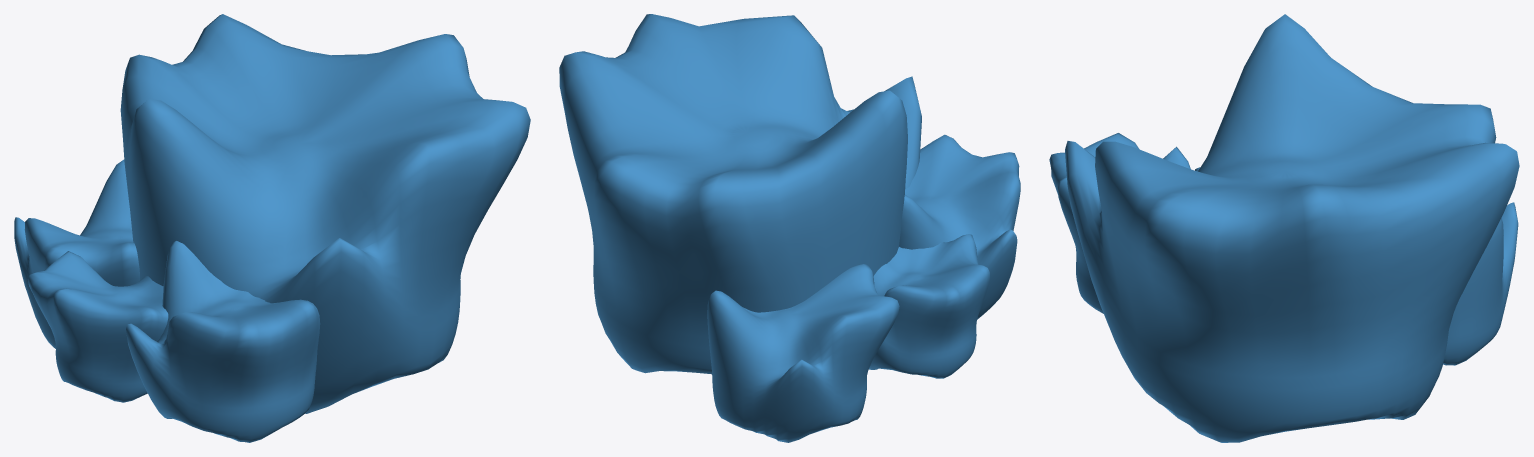
The model's file is AGRock4.fbx.
The picture shows the model from 3 angles, left to right: view 1: azimuth 30°, elevation 25°; view 2: azimuth 150°, elevation 25°; view 3: azimuth 270°, elevation 25°; orthographic projection. The views are drawn at different scales.
Parts seen in each view (by area): view 1: pSphere4, pSphere5, pSphere7, pSphere6; view 2: pSphere4, pSphere6, pSphere5, pSphere7; view 3: pSphere4, pSphere6, pSphere5.
Part boxes in pixels (x1,y1,x2,y2): pSphere4: (120, 14, 530, 413); pSphere5: (126, 241, 320, 442); pSphere7: (27, 251, 168, 402); pSphere6: (14, 159, 139, 348); pSphere4: (559, 14, 921, 374); pSphere6: (707, 264, 899, 442); pSphere5: (899, 134, 1020, 319); pSphere7: (869, 234, 989, 378); pSphere4: (1065, 14, 1519, 442); pSphere6: (1443, 202, 1518, 365); pSphere5: (1049, 133, 1190, 313).
Bounding box in the file's own units: 1.49 × 1.02 × 1.41.
